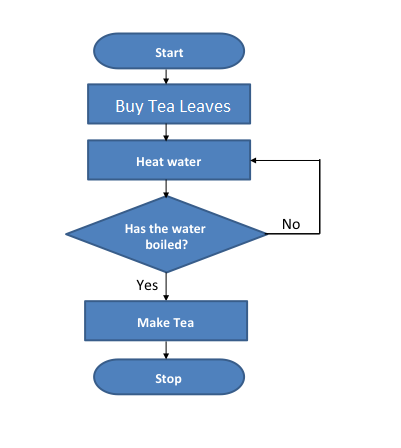arrow: (250, 156, 325, 238), (162, 274, 170, 301), (160, 176, 169, 195), (161, 123, 169, 141), (161, 68, 169, 84), (162, 342, 169, 357)
decision: (63, 195, 266, 273)
process: (84, 137, 253, 183), (84, 81, 252, 126), (82, 299, 250, 341)
terminator: (92, 357, 246, 398), (92, 30, 247, 70)
text: (123, 222, 207, 253), (111, 97, 232, 118), (135, 314, 194, 333), (134, 154, 203, 169), (152, 46, 184, 61), (152, 373, 183, 387), (279, 216, 303, 231), (135, 275, 157, 291)
